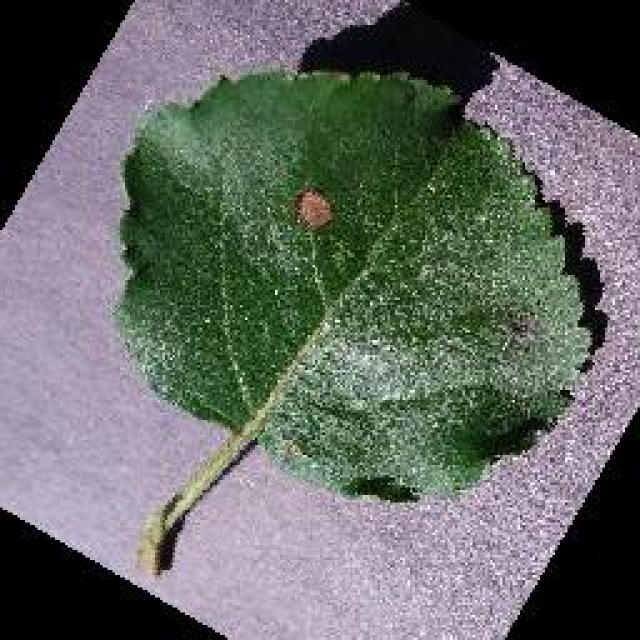Black_rot: (110, 65, 595, 577)
